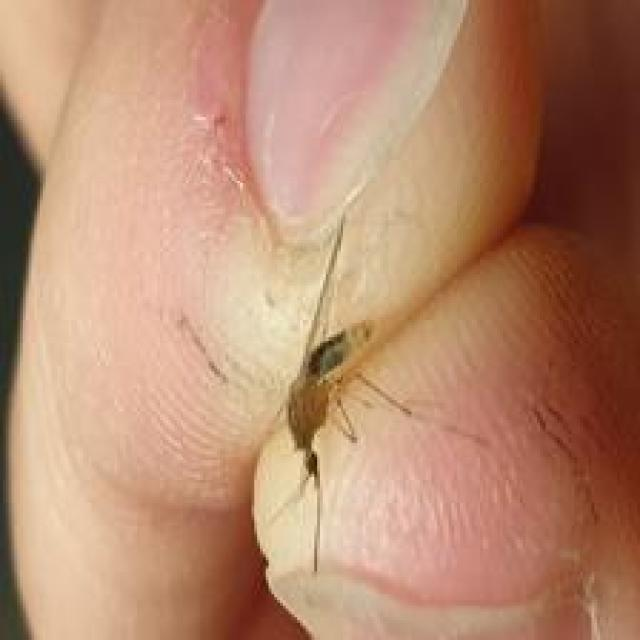Culex: (272, 215, 414, 574)
